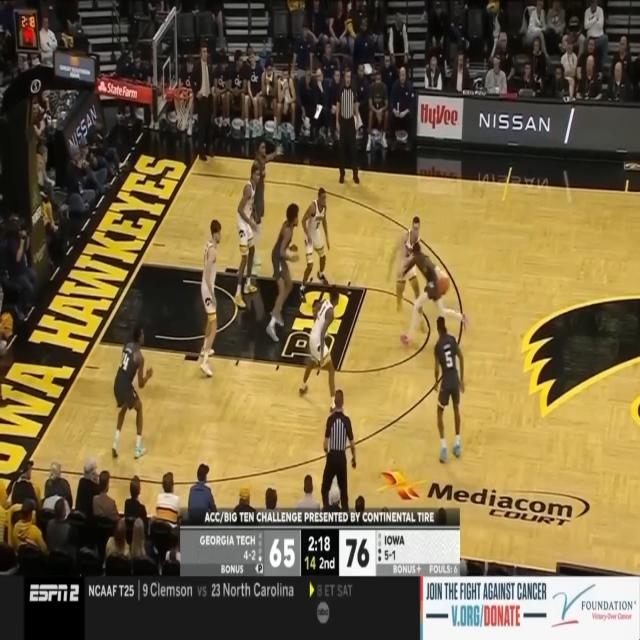Ball: (437, 274, 448, 296)
Hoop: (173, 87, 193, 134)
Period: (319, 556, 336, 570)
Player: (396, 242, 469, 350), (111, 323, 154, 463), (388, 215, 432, 348), (296, 286, 338, 414), (432, 313, 466, 466), (265, 201, 299, 345), (232, 163, 262, 307), (250, 139, 283, 264), (298, 188, 331, 304), (200, 217, 222, 377)
Ref: (321, 390, 358, 507), (335, 67, 361, 186)
Shot Clock: (304, 555, 315, 571)
Team Name: (200, 535, 256, 546), (384, 532, 406, 548)
Team Points: (344, 536, 372, 569), (269, 537, 296, 570)
Time Remaining: (308, 535, 331, 553)
